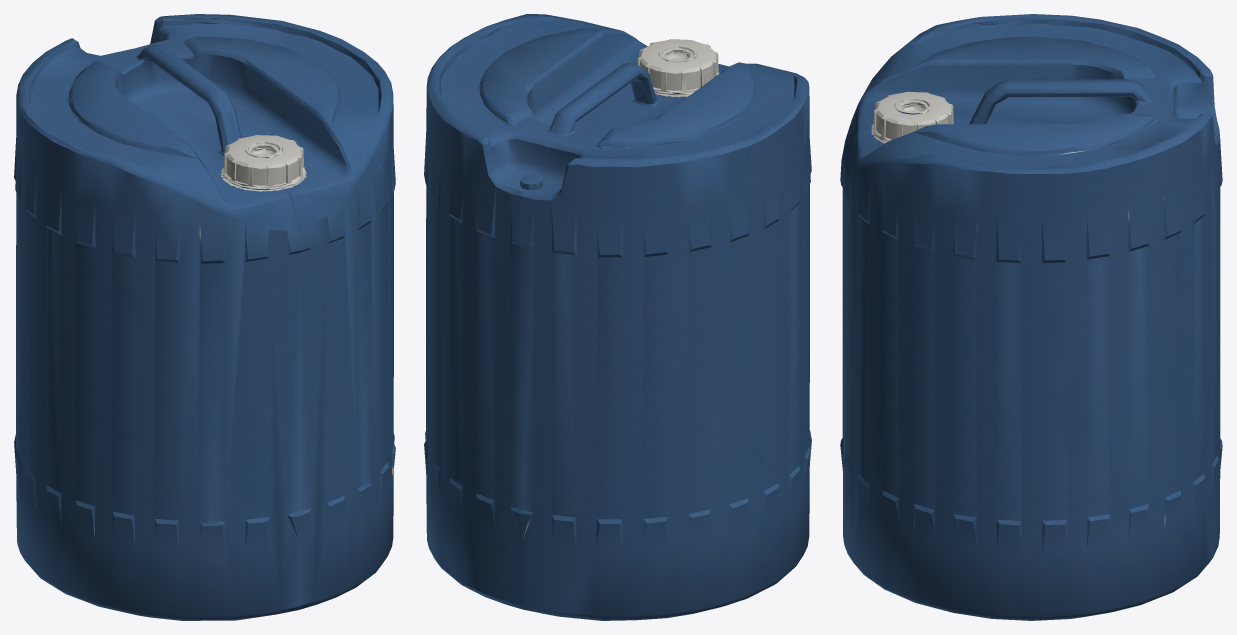
File: drum_plastic_blue_a01.glb
3 views of the same model, side by side, from view 1: azimuth 30°, elevation 25°; view 2: azimuth 150°, elevation 25°; view 3: azimuth 270°, elevation 25° (orthographic).
Parts seen in each view (by area): view 1: drum_plastic_blue_a01_lod1; view 2: drum_plastic_blue_a01_lod1; view 3: drum_plastic_blue_a01_lod1.
Boxes of the visible parts, x1,y1,x2,y2 form: drum_plastic_blue_a01_lod1: [14, 14, 395, 620]; drum_plastic_blue_a01_lod1: [424, 14, 811, 620]; drum_plastic_blue_a01_lod1: [840, 14, 1222, 620].
Bounding box in the file's own units: 0.2827 × 0.3864 × 0.2839.
1 material, 1 textured.
